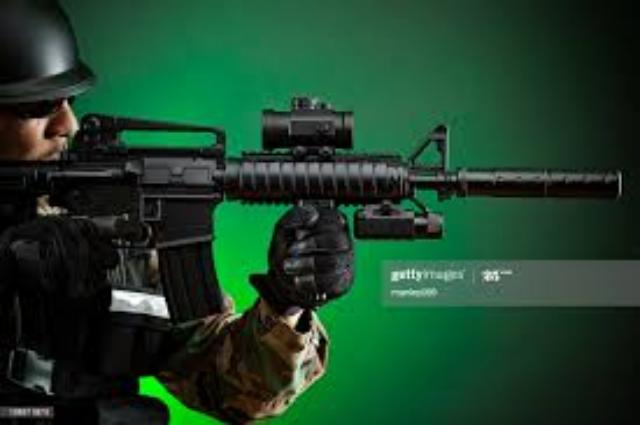other: (0, 4, 94, 419)
